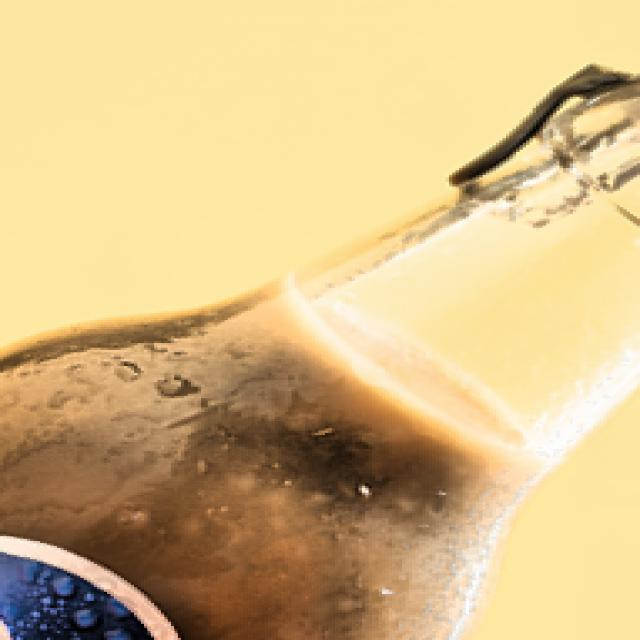glass: (0, 75, 640, 640)
